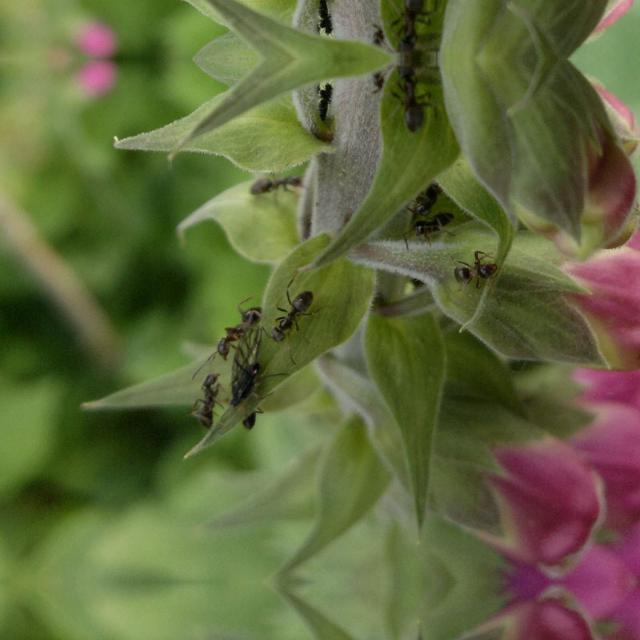Lasius: (203, 289, 264, 359), (262, 278, 320, 350), (395, 59, 441, 140), (224, 348, 276, 412), (395, 0, 441, 56), (195, 364, 218, 440), (458, 253, 498, 290), (402, 214, 458, 238)
